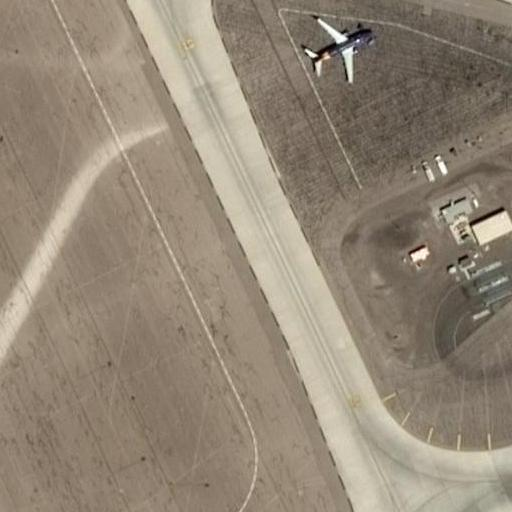Aircraft: (298, 11, 376, 82)
